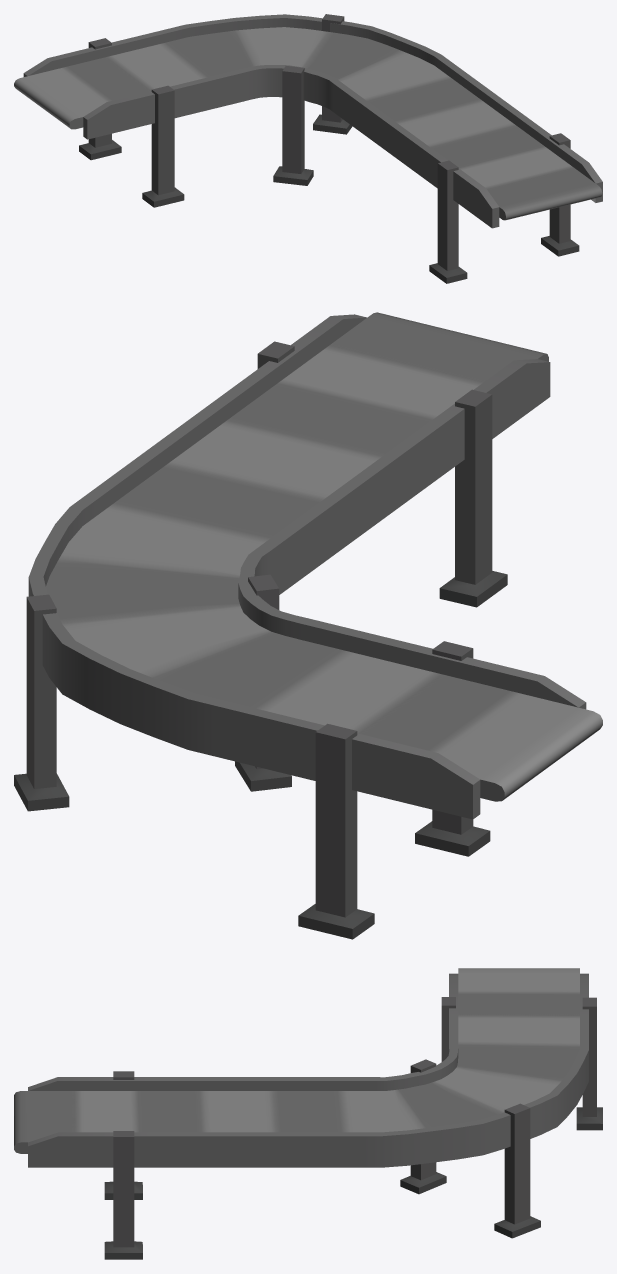
The model's file is SM_Conveyor_02.fbx.
3 views of the same model, one above another, from view 1: azimuth 30°, elevation 25°; view 2: azimuth 150°, elevation 25°; view 3: azimuth 270°, elevation 25° (orthographic). The views are drawn at different scales.
Visible parts, largest first — view 1: Cube.001; view 2: Cube.001; view 3: Cube.001.
Boxes of the visible parts, x1,y1,x2,y2 form: Cube.001: (14,14,602,283); Cube.001: (14,312,602,939); Cube.001: (14,968,602,1259).
Bounding box in the file's own units: 311 × 93.72 × 417.
